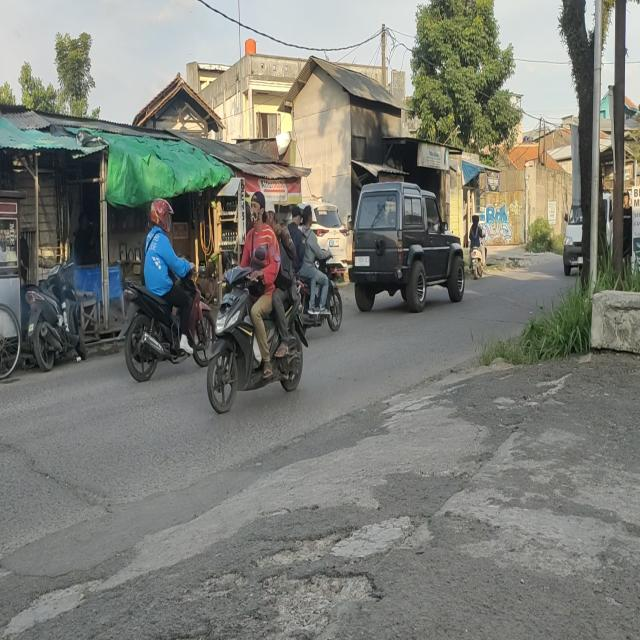helmet: (151, 198, 174, 232)
no-helmet: (249, 188, 268, 226), (263, 203, 277, 227), (291, 205, 302, 230), (304, 204, 314, 227), (472, 214, 478, 226), (476, 215, 480, 222)
